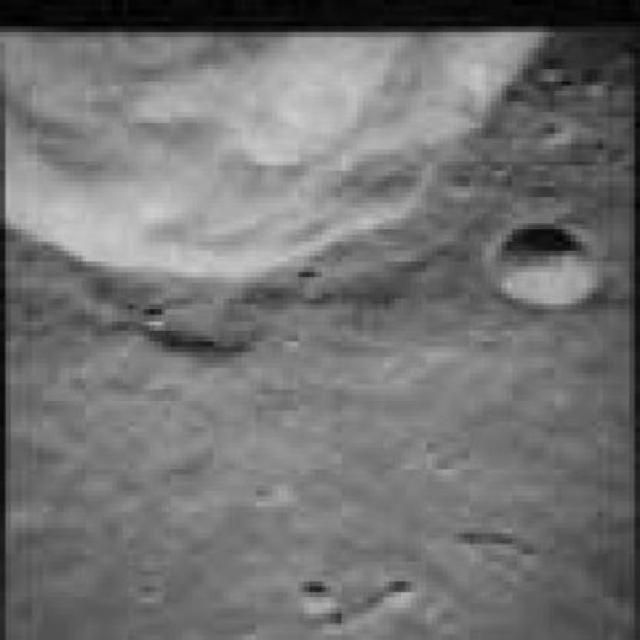crater: (485, 225, 606, 309)
